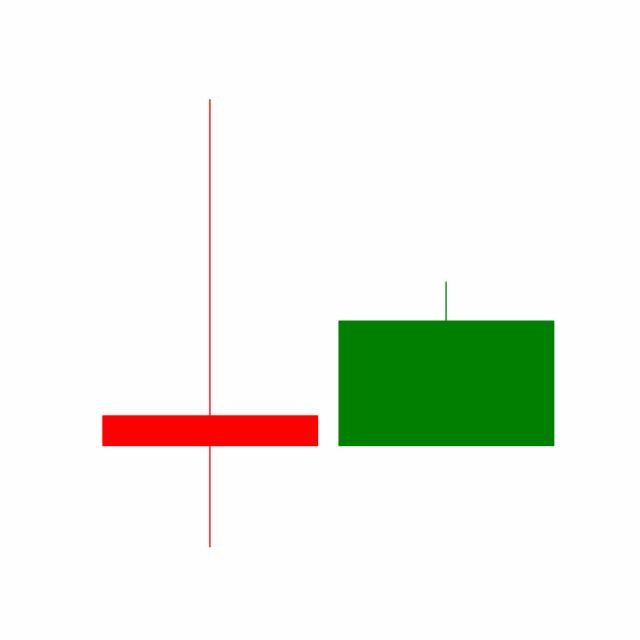Marubozu: (327, 279, 565, 448)
